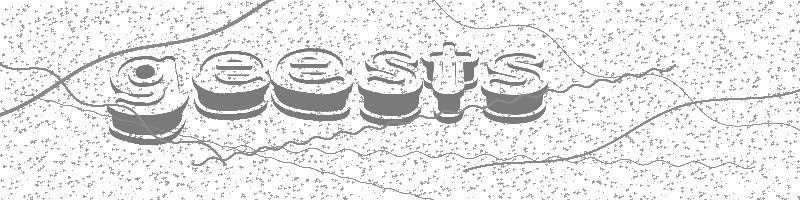e: (270, 45, 354, 125), (191, 48, 272, 121)
g: (103, 52, 191, 146)
s: (478, 46, 551, 126), (354, 46, 425, 127)
t: (422, 39, 483, 126)
